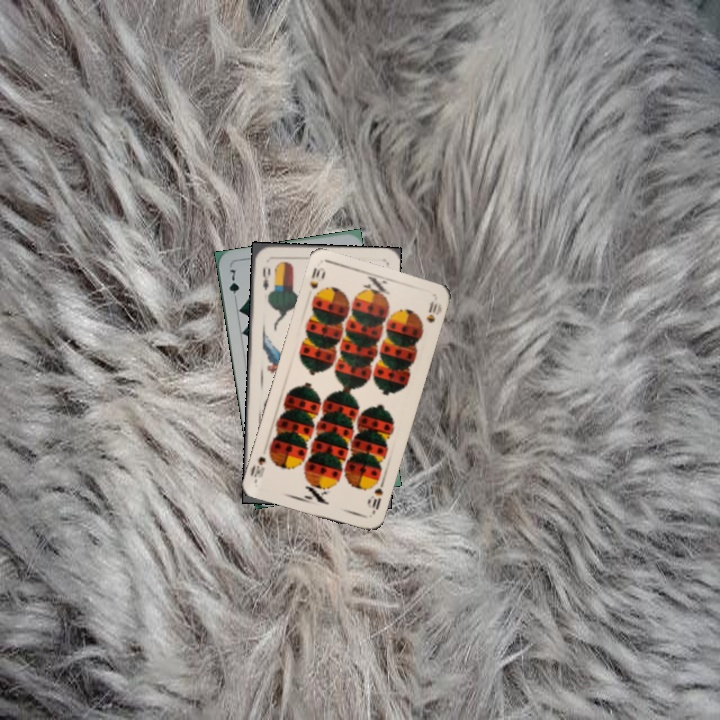EO: (259, 262, 273, 292)
G7: (223, 265, 242, 305)
S10: (305, 263, 328, 302), (364, 477, 386, 517)
